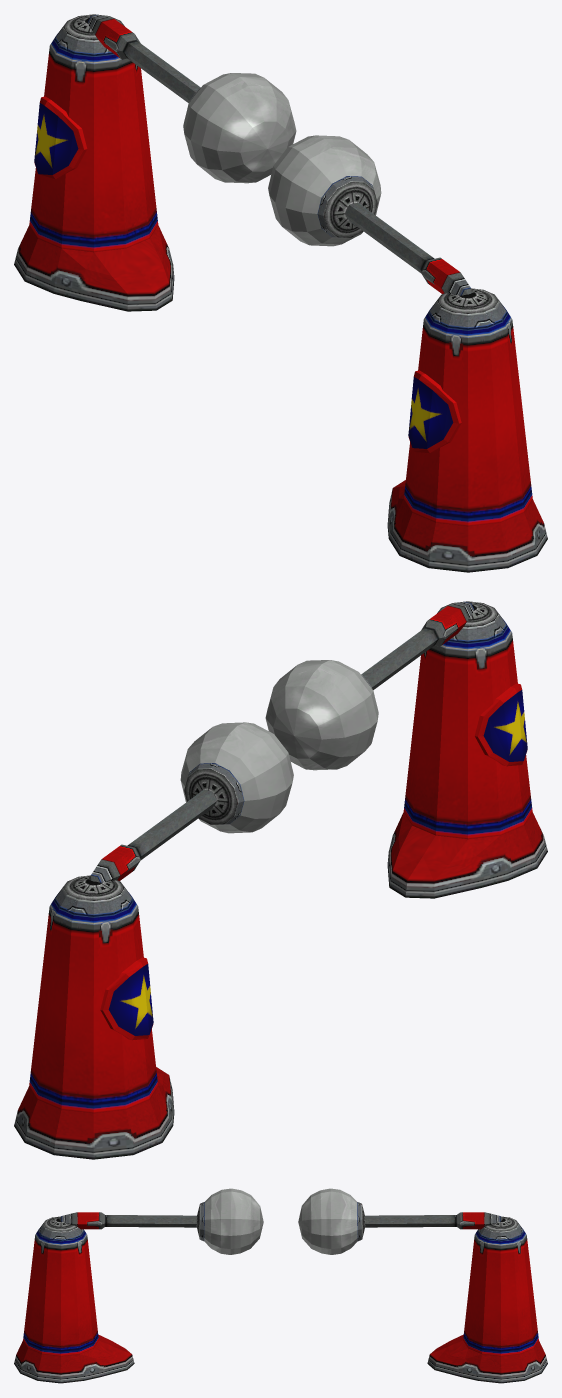
The model's file is checkpoint.obj.
3 renders of one model, top to bottom at view 1: azimuth 30°, elevation 25°; view 2: azimuth 150°, elevation 25°; view 3: azimuth 270°, elevation 25°, orthographic. The views are drawn at different scales.
Visible parts, largest first — view 1: Checkpoint; view 2: Checkpoint; view 3: Checkpoint.
Boxes of the visible parts, box(x1,y1,x2,y2) form: Checkpoint: box(14, 14, 547, 572); Checkpoint: box(14, 601, 547, 1159); Checkpoint: box(14, 1188, 547, 1383).
Bounding box in the file's own units: 0.9072 × 1.85 × 5.18.
